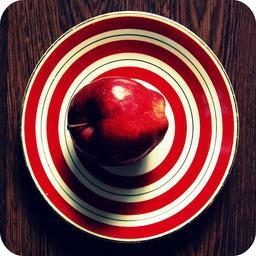apple: (68, 78, 169, 172)
